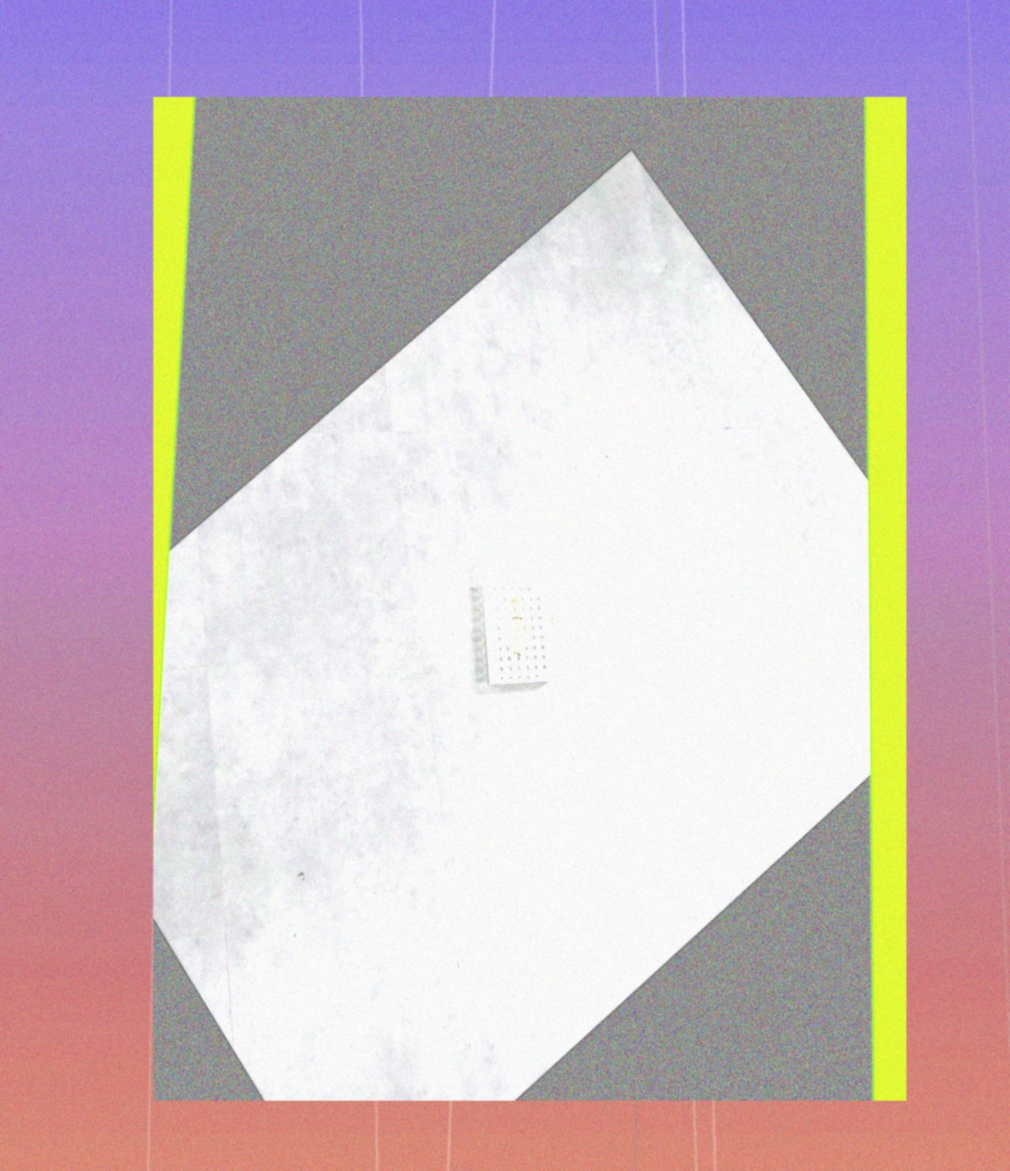basket: (480, 579, 554, 691)
mannequin: (509, 593, 528, 668)
